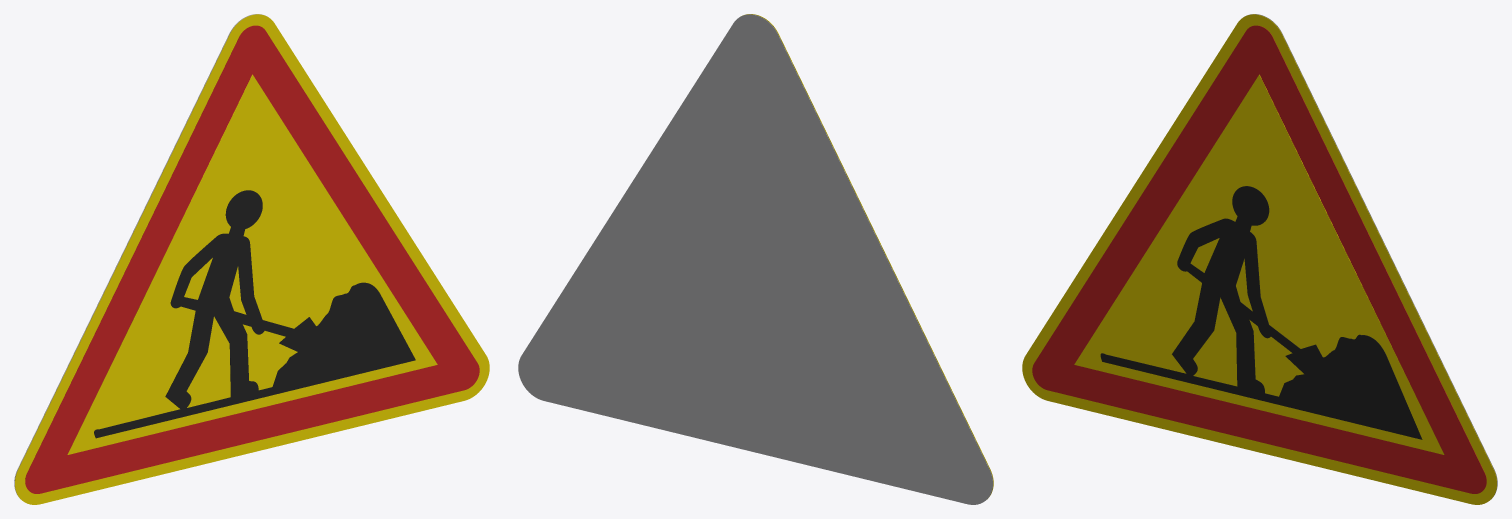
3 renders of one model, left to right at view 1: azimuth 30°, elevation 25°; view 2: azimuth 150°, elevation 25°; view 3: azimuth 330°, elevation 25°, orthographic.
Visible parts, largest first — view 1: AK5_p02, AK5_p01, AK5_p03, AK5_p00, AK5_dos; view 2: AK5_dos, AK5_p00; view 3: AK5_p02, AK5_p01, AK5_p03, AK5_p00, AK5_dos.
Boxes of the visible parts, <box> form: AK5_p02: <box>67,74,437,454</box>; AK5_p01: <box>25,25,479,493</box>; AK5_p03: <box>94,190,415,438</box>; AK5_p00: <box>15,14,489,504</box>; AK5_dos: <box>14,14,267,499</box>; AK5_dos: <box>518,14,992,504</box>; AK5_p00: <box>740,14,993,499</box>; AK5_p02: <box>1074,74,1444,454</box>; AK5_p01: <box>1032,25,1486,493</box>; AK5_p03: <box>1100,186,1422,439</box>; AK5_p00: <box>1022,14,1496,504</box>; AK5_dos: <box>1244,14,1497,499</box>.
Size of the model in its own units: 0.7 by 0.6162 by 0.0031.
